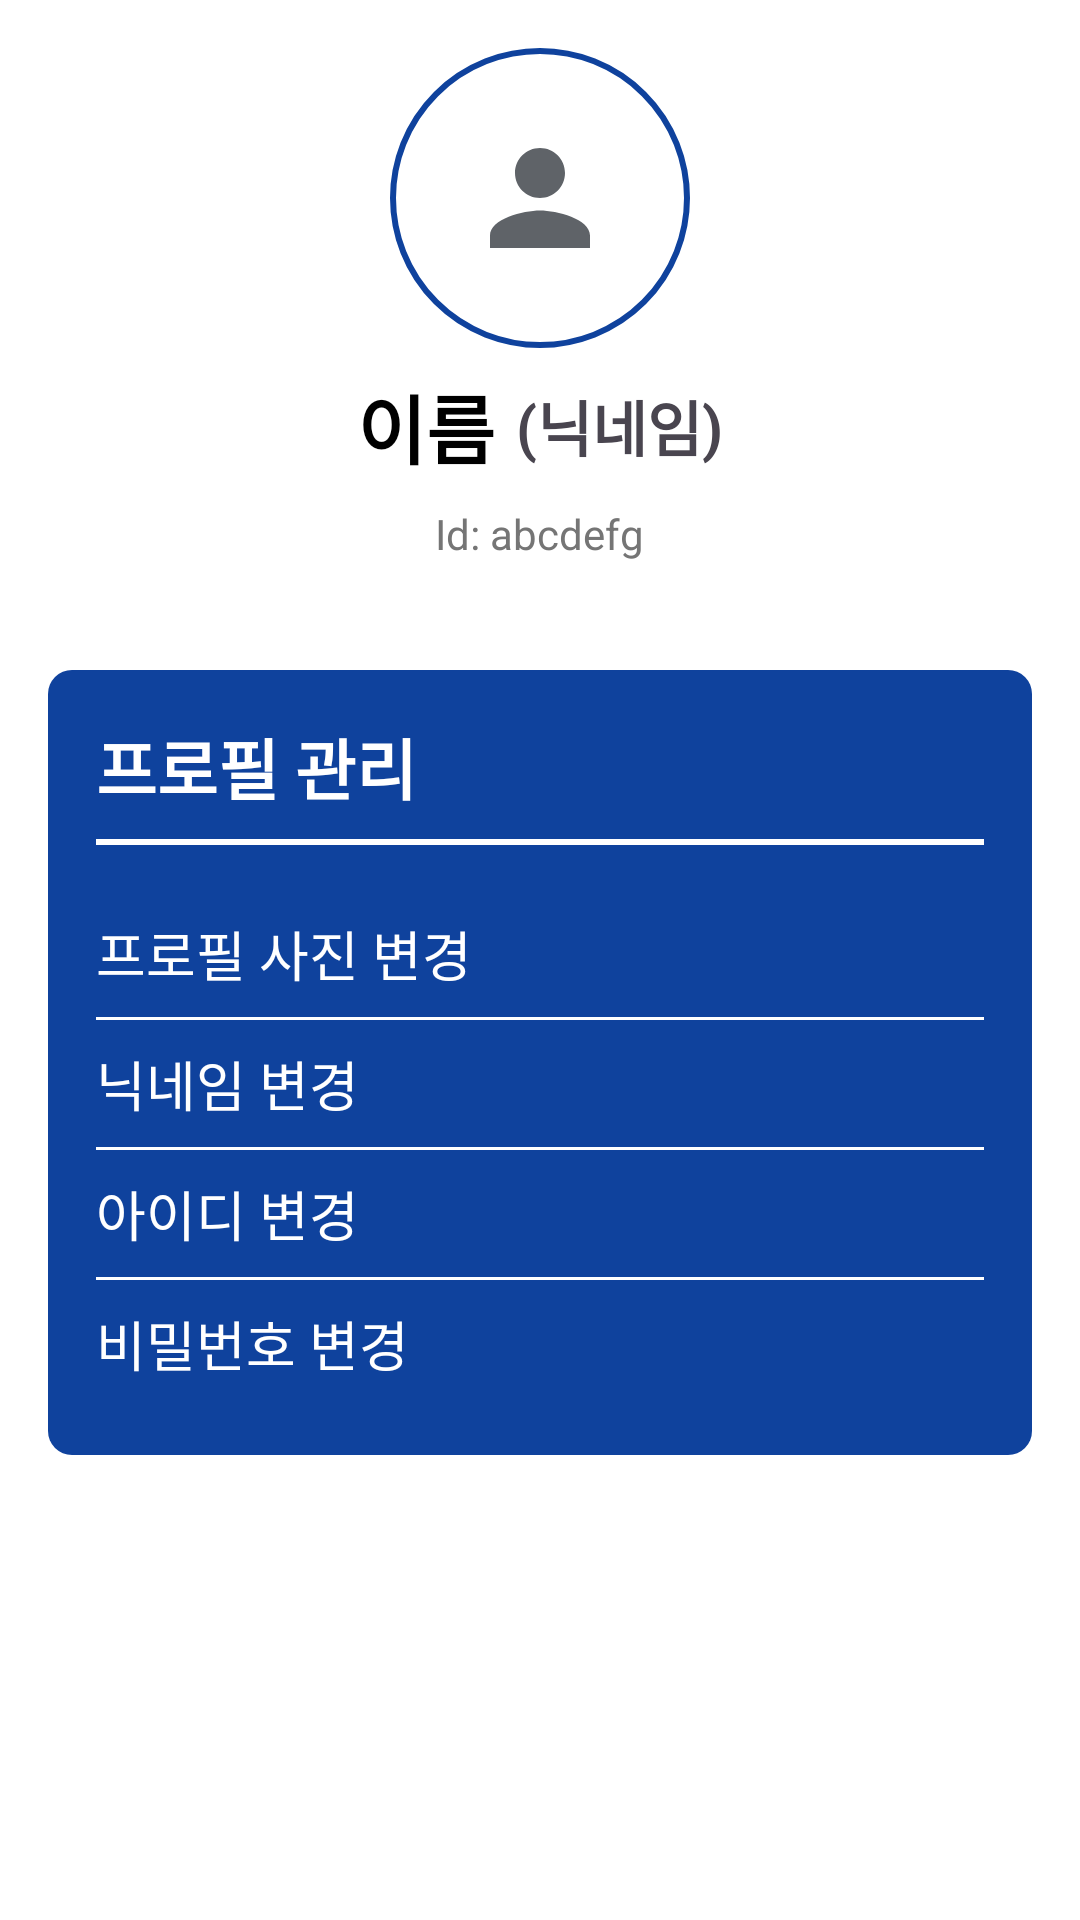

Where icons sit on this 1080×1920 app screen, as (x1, y1, x2, y2):
Profile Image: (390, 48, 690, 348)
